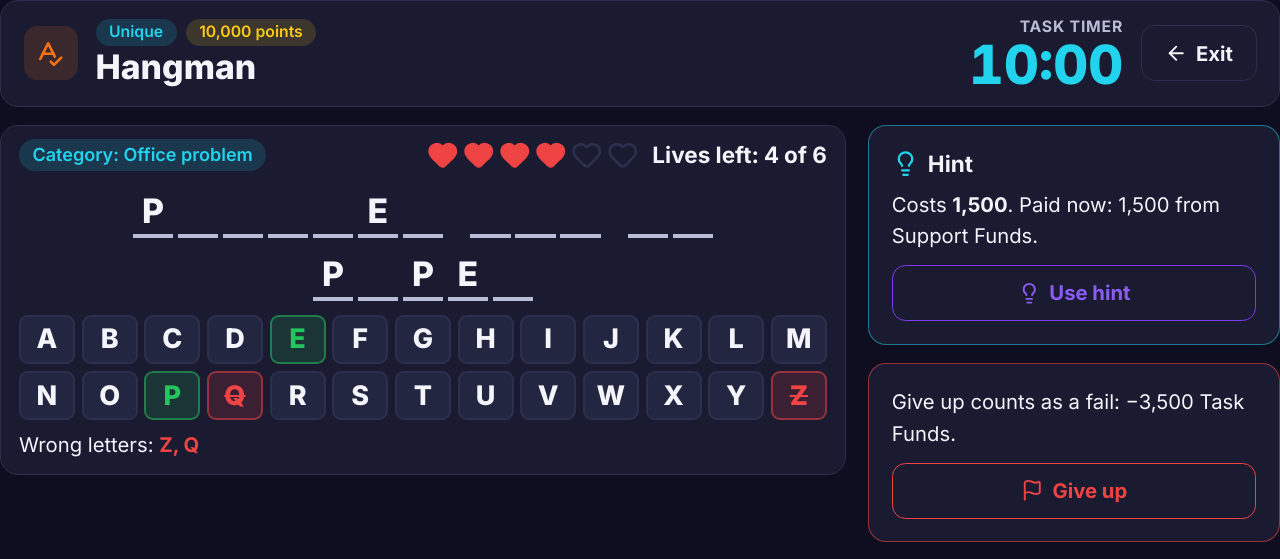
Hangman › says when a letter is not in the phrase
Click the button named "Letter X" at (674, 396), box [646,371,702,420]
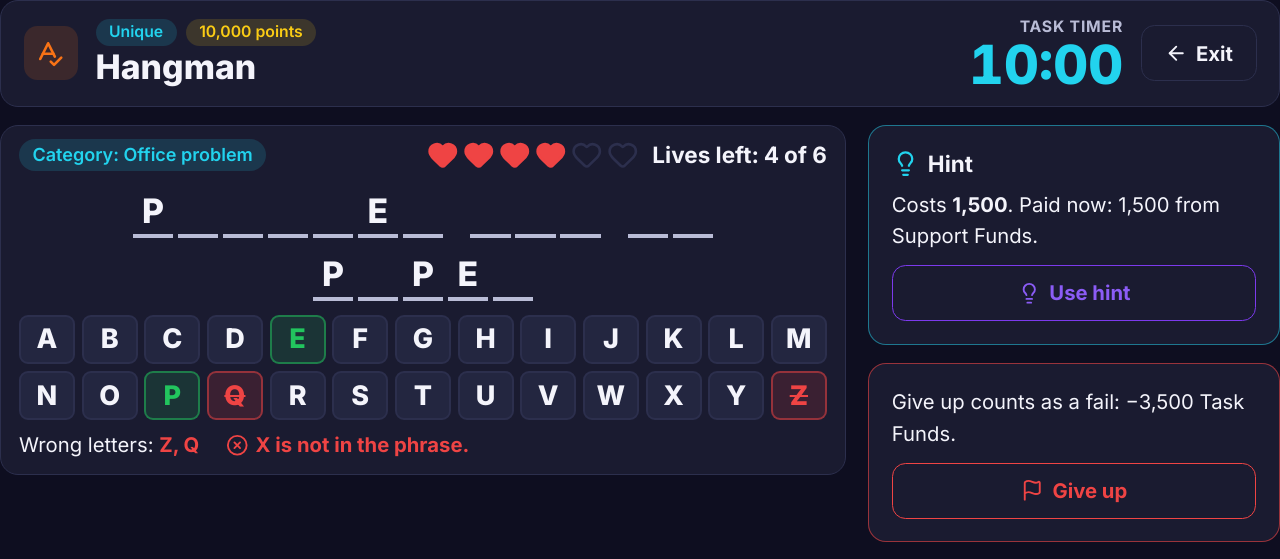
Expected: the text "X is not in the phrase." is shown, [226,429,469,461]
